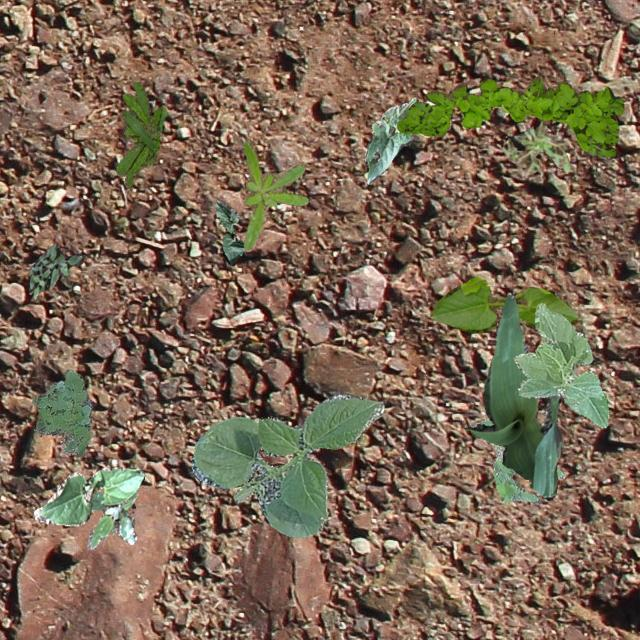crop: (190, 394, 384, 536), (463, 294, 562, 500), (514, 302, 608, 426), (429, 276, 576, 332), (32, 466, 144, 524), (364, 96, 416, 182), (215, 200, 242, 264)
weed: (396, 74, 622, 156), (476, 417, 564, 502), (242, 140, 308, 250), (116, 80, 166, 186), (30, 368, 90, 456), (502, 120, 570, 173), (28, 242, 82, 298), (86, 490, 136, 548)
